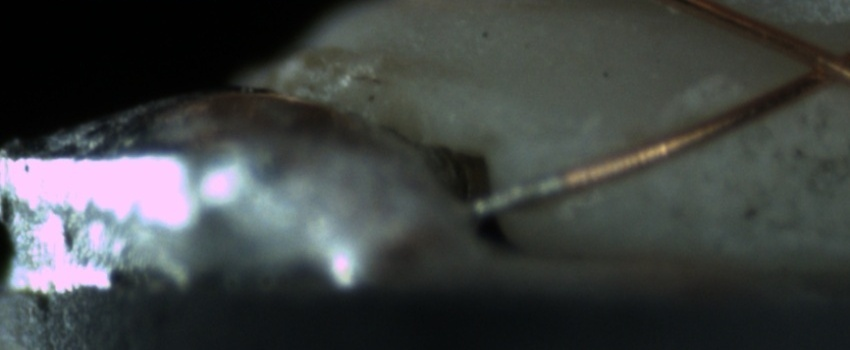CL: (775, 29, 848, 96)
TS: (465, 175, 570, 217)
